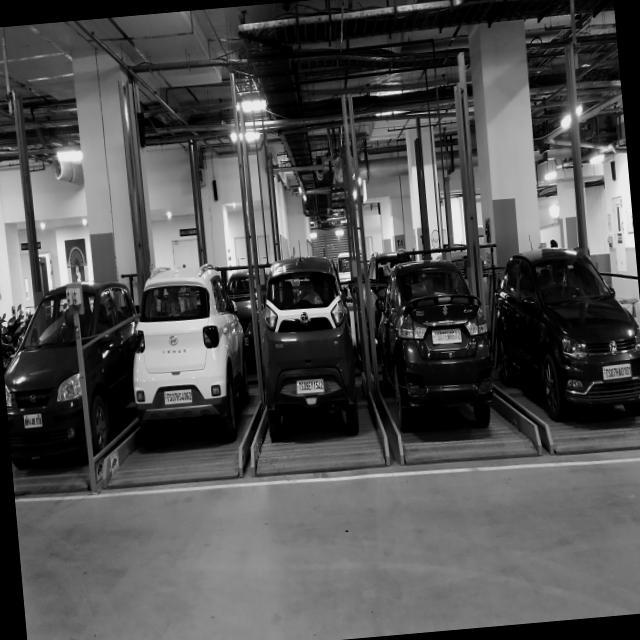car: (522, 292, 628, 428), (382, 302, 485, 441), (260, 310, 354, 442), (15, 329, 94, 470), (136, 326, 225, 446)
